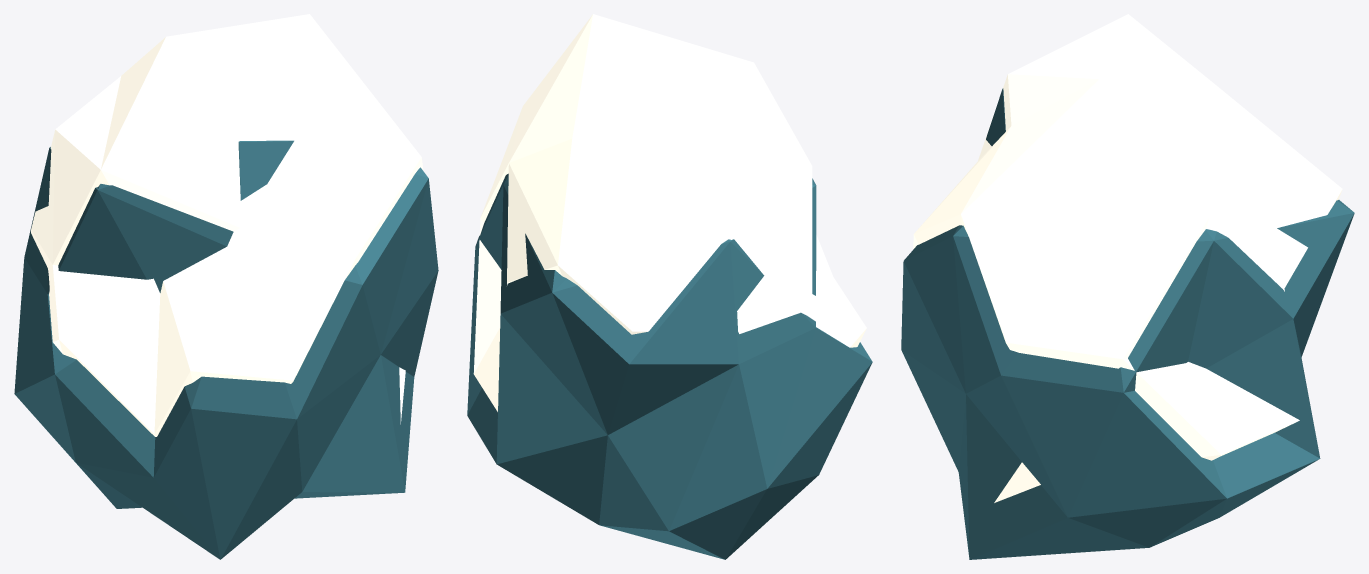
File: RockAsset5.fbx
3 views of the same model, side by side, from view 1: azimuth 30°, elevation 25°; view 2: azimuth 150°, elevation 25°; view 3: azimuth 270°, elevation 25° (orthographic). The views are drawn at different scales.
Parts seen in each view (by area): view 1: Rock5; view 2: Rock5; view 3: Rock5.
Boxes of the visible parts, box(x1,y1,x2,y2) form: Rock5: box(14, 14, 438, 559); Rock5: box(467, 14, 872, 559); Rock5: box(901, 14, 1354, 559).
Bounding box in the file's own units: 857 × 1056 × 865.
